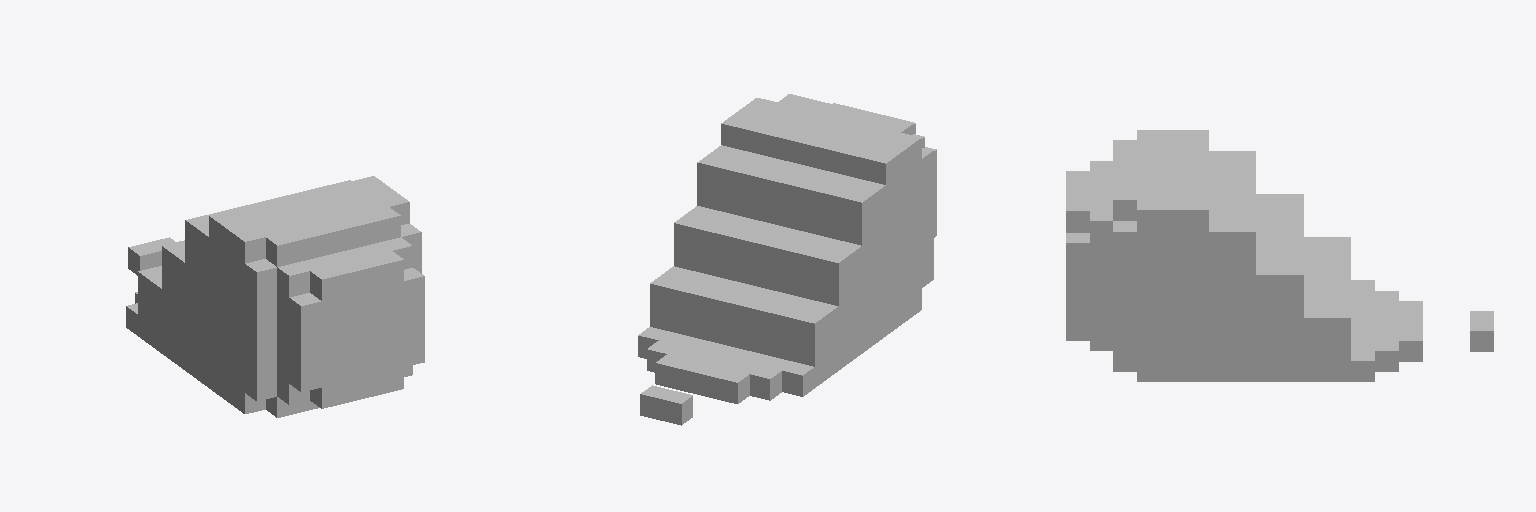
The model's file is run green slime3.obj.
3 views of the same model, side by side, from view 1: azimuth 30°, elevation 25°; view 2: azimuth 150°, elevation 25°; view 3: azimuth 270°, elevation 25° (orthographic).
Parts seen in each view (by area): view 1: object 1; view 2: object 1; view 3: object 1.
Boxes of the visible parts, x1,y1,x2,y2 form: object 1: [126, 176, 424, 417]; object 1: [638, 94, 936, 425]; object 1: [1066, 130, 1493, 381].
Bounding box in the file's own units: 0.8 × 0.8 × 1.8.